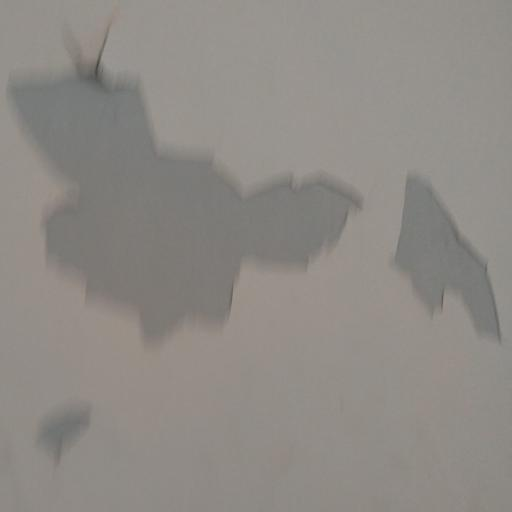peeling: (0, 54, 370, 349), (376, 158, 512, 350)
